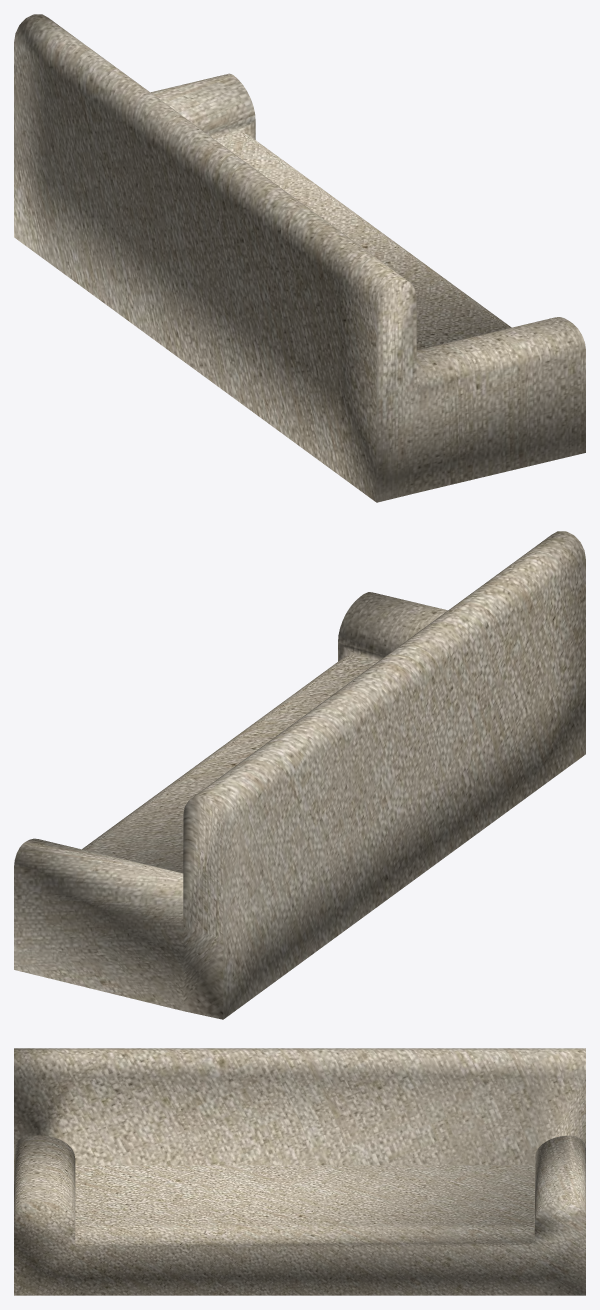
Rendered from UpdatedSofaDAE.DAE.
3 views of the same model, one above another, from view 1: azimuth 30°, elevation 25°; view 2: azimuth 150°, elevation 25°; view 3: azimuth 270°, elevation 25° (orthographic). The views are drawn at different scales.
Visible parts, largest first — view 1: Cube; view 2: Cube; view 3: Cube.
Part boxes in pixels (x1=…): Cube: x1=14, y1=14, x2=585, y2=502; Cube: x1=14, y1=531, x2=585, y2=1019; Cube: x1=14, y1=1048, x2=585, y2=1295.
Bounding box in the file's own units: 19.69 × 59.06 × 19.69.
1 material, 1 textured.
